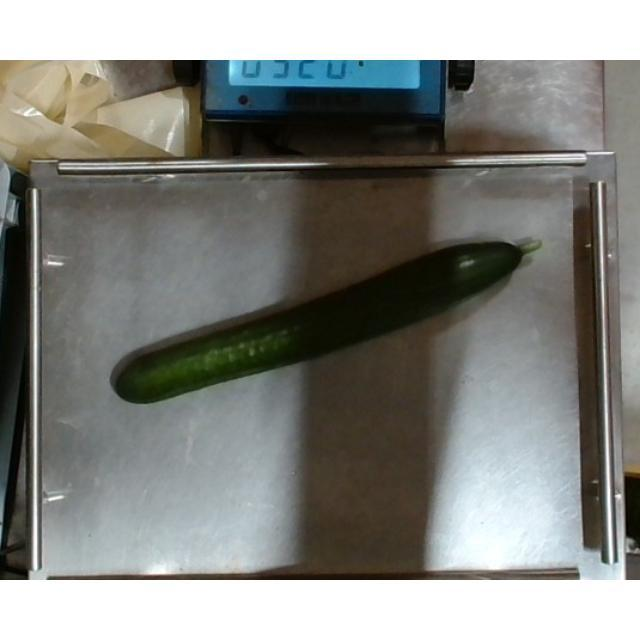cucumber: (112, 237, 544, 406)
